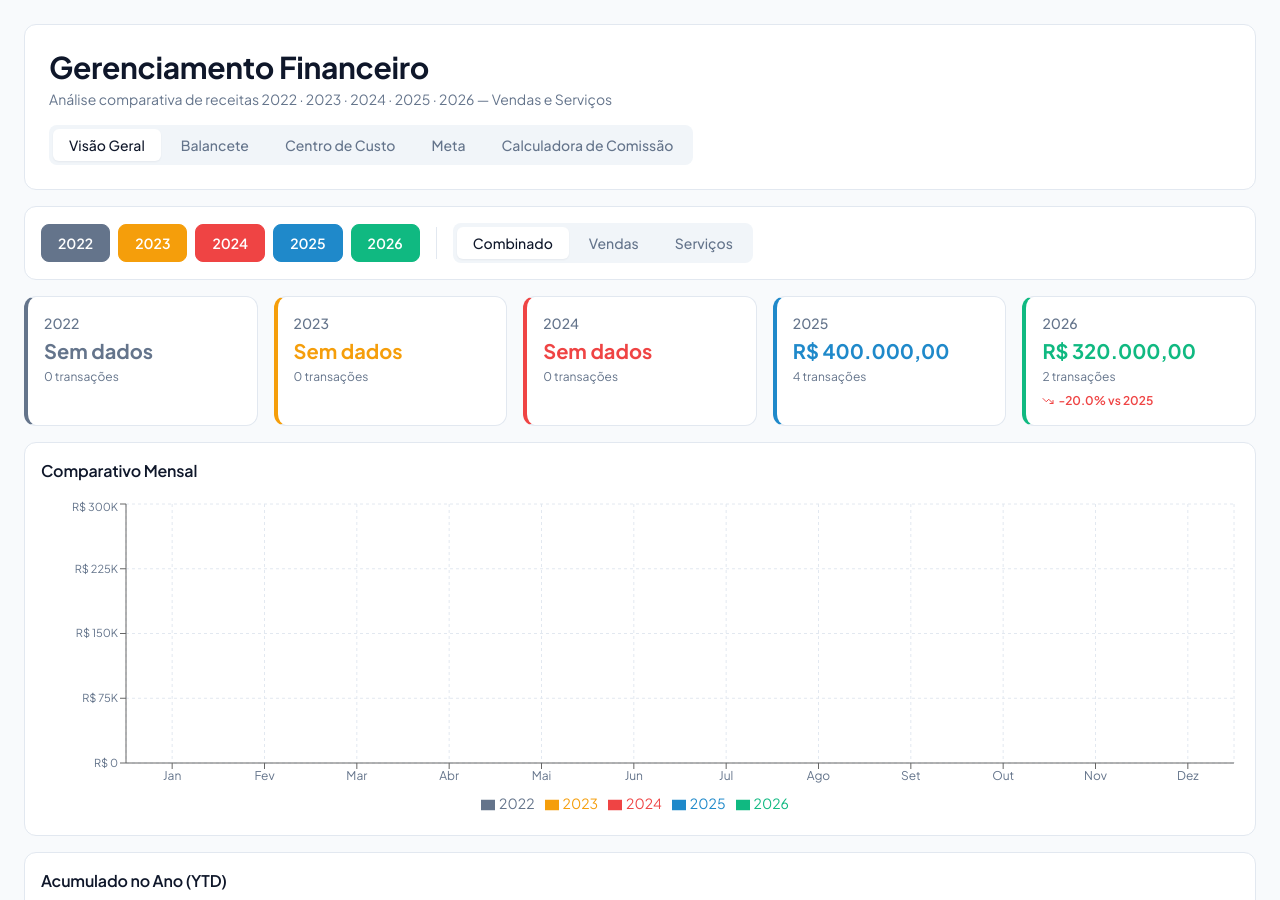
Scenario: Financeiro — balancete › conta sem categoria numérica vira linha, e o total fecha com as linhas
Step 1. Click the tab "Balancete" → [215, 145], box [165, 129, 265, 161]
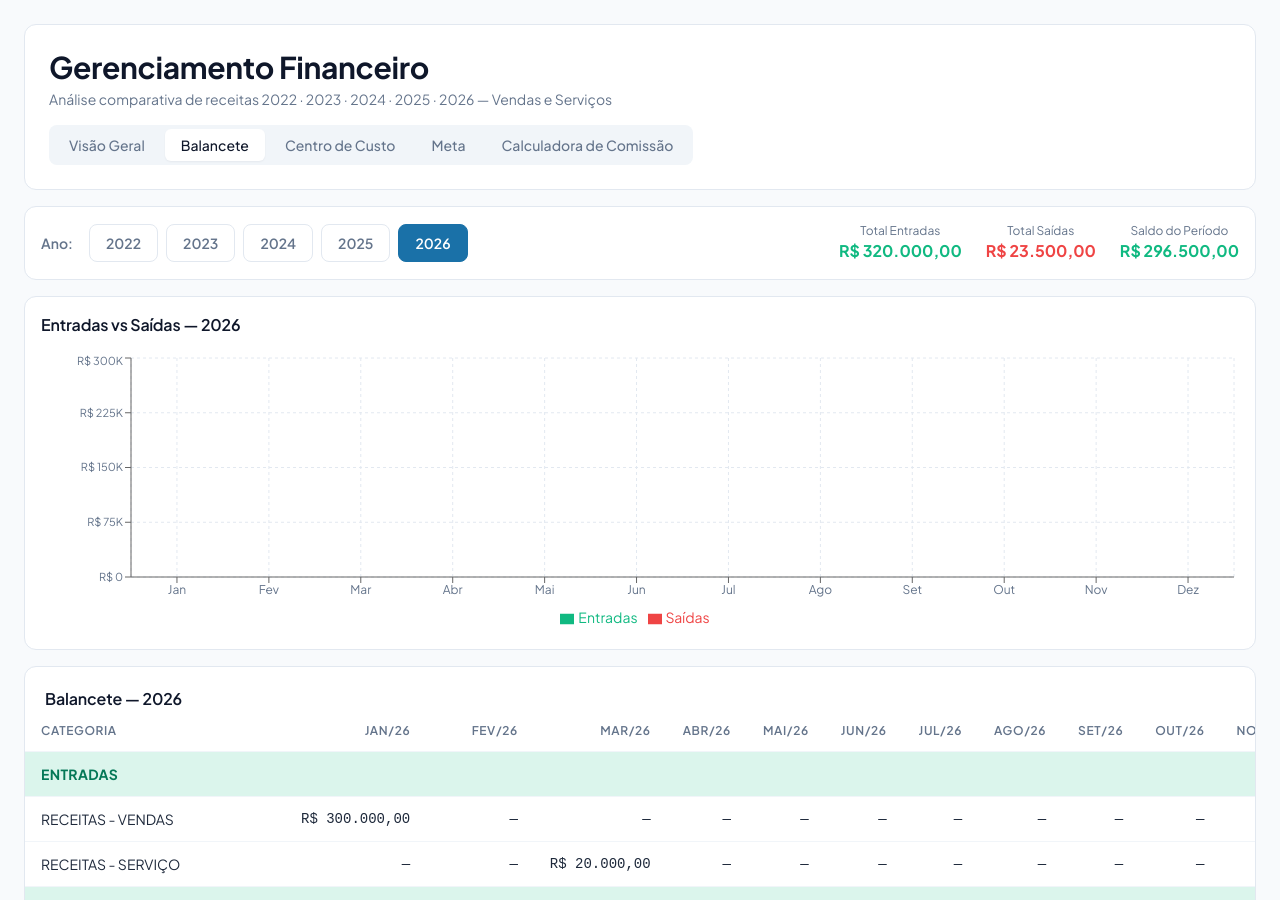
Expected: the text "R$ 23.500,00" is shown, [986, 239, 1096, 263]
